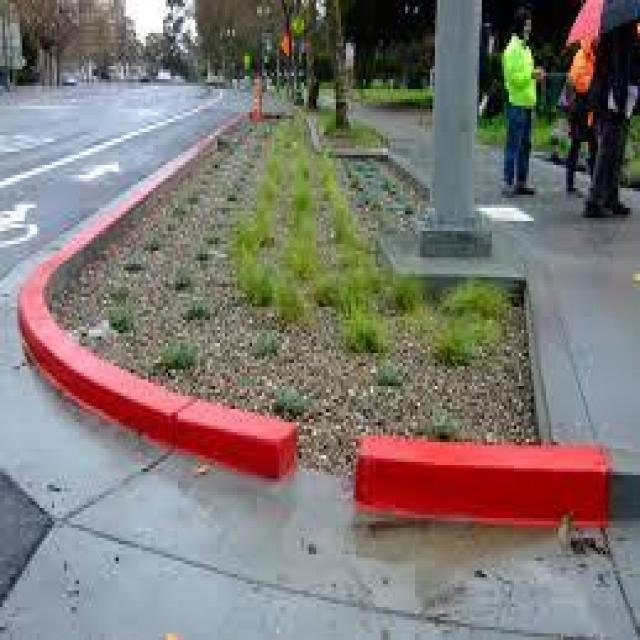bump: (23, 295, 278, 475), (330, 416, 640, 554)
pole: (419, 0, 497, 268)
